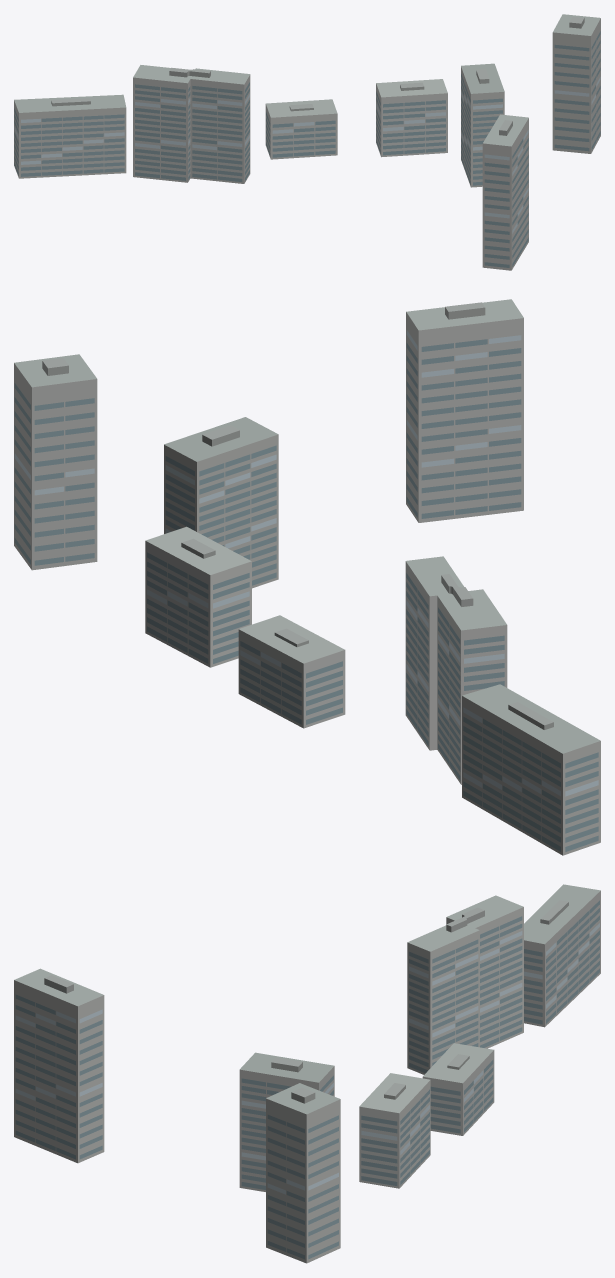
File: apt-a13070101.glb
3 views of the same model, one above another, from view 1: azimuth 30°, elevation 25°; view 2: azimuth 150°, elevation 25°; view 3: azimuth 270°, elevation 25° (orthographic). The views are drawn at different scales.
Parts seen in each view (by area): view 1: apt-a13070101; view 2: apt-a13070101; view 3: apt-a13070101.
Boxes of the visible parts, x1=… form: apt-a13070101: x1=14, y1=14, x2=600, y2=270; apt-a13070101: x1=14, y1=299, x2=600, y2=855; apt-a13070101: x1=14, y1=884, x2=600, y2=1263.
Size of the model in its own units: 241 by 62 by 202.
